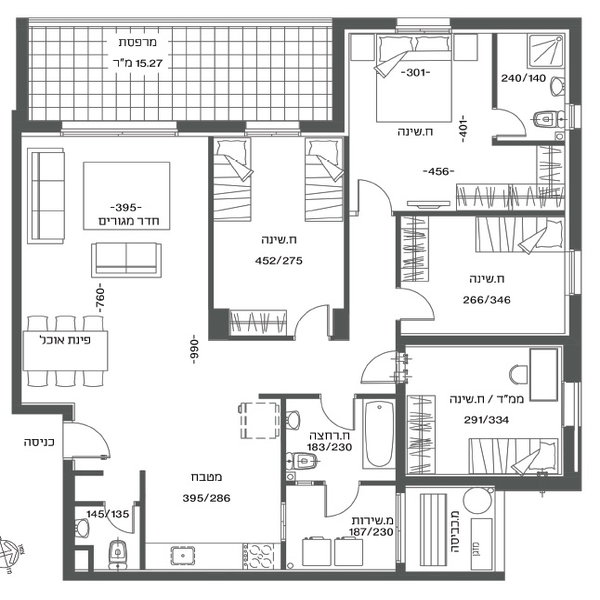door: (58, 421, 116, 464), (323, 479, 367, 522), (395, 284, 437, 327), (356, 176, 395, 219), (293, 303, 331, 344), (361, 350, 403, 387), (321, 392, 357, 434), (493, 109, 532, 140), (103, 504, 138, 538)
room: (6, 117, 215, 412), (337, 18, 582, 216), (207, 120, 354, 344), (400, 334, 577, 490), (396, 209, 583, 346), (278, 391, 407, 581)
wall: (68, 570, 504, 580), (11, 112, 22, 413), (397, 476, 579, 490), (451, 18, 580, 36), (393, 334, 564, 346), (62, 458, 76, 581), (17, 16, 30, 132), (569, 128, 581, 251), (208, 134, 215, 341), (334, 19, 346, 127), (561, 426, 581, 488), (567, 20, 581, 104), (343, 134, 348, 343), (395, 386, 404, 489), (570, 292, 580, 381), (178, 121, 247, 133), (337, 16, 398, 29), (12, 404, 71, 415), (281, 397, 287, 504), (304, 119, 345, 131), (210, 336, 296, 341), (261, 394, 321, 399), (355, 395, 397, 399)
window: (64, 120, 177, 134), (246, 118, 301, 137), (567, 249, 586, 296), (400, 17, 447, 33), (564, 385, 582, 424), (397, 494, 407, 558), (567, 104, 581, 132), (279, 508, 287, 540)
